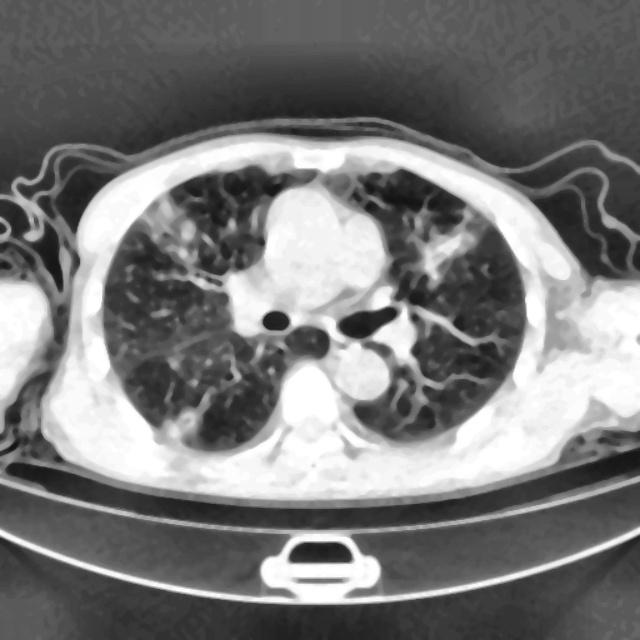covid: (14, 119, 638, 506)
